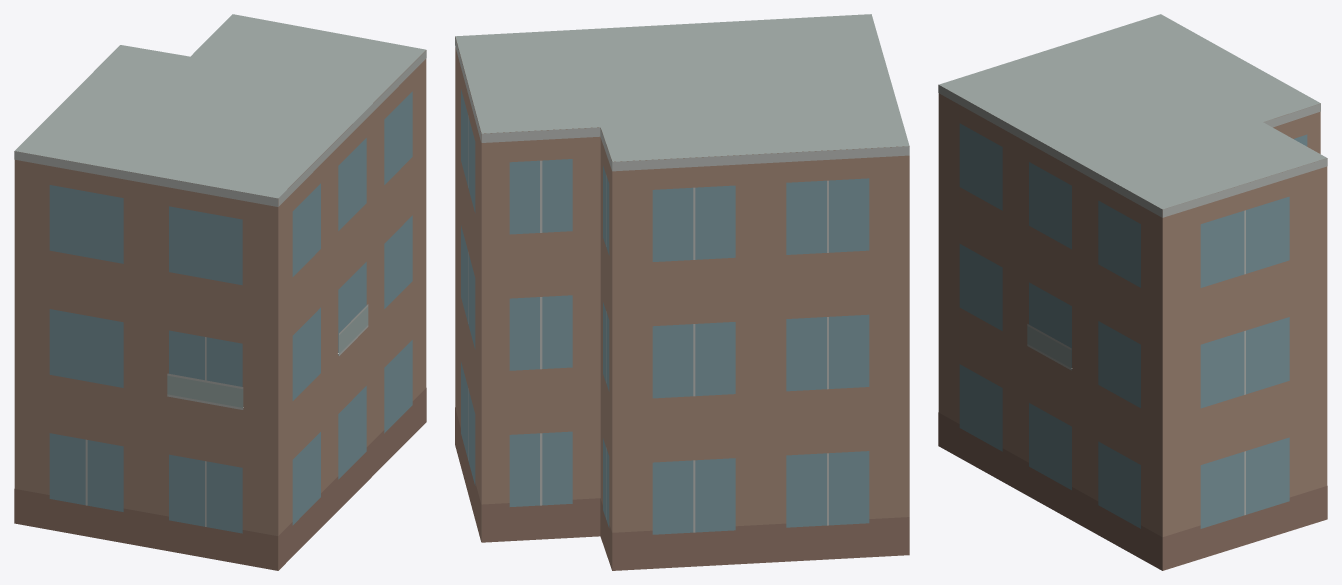
File: survey-upis-32501382.glb
The picture shows the model from 3 angles, left to right: view 1: azimuth 30°, elevation 25°; view 2: azimuth 150°, elevation 25°; view 3: azimuth 270°, elevation 25°; orthographic projection. The views are drawn at different scales.
Parts seen in each view (by area): view 1: survey-upis-32501382.tmp; view 2: survey-upis-32501382.tmp; view 3: survey-upis-32501382.tmp.
Boxes of the visible parts, box(x1,y1,x2,y2) form: survey-upis-32501382.tmp: box(14, 14, 426, 570); survey-upis-32501382.tmp: box(455, 14, 909, 570); survey-upis-32501382.tmp: box(938, 14, 1327, 570).
Size of the model in its own units: 12.19 by 10.5 by 10.25.
